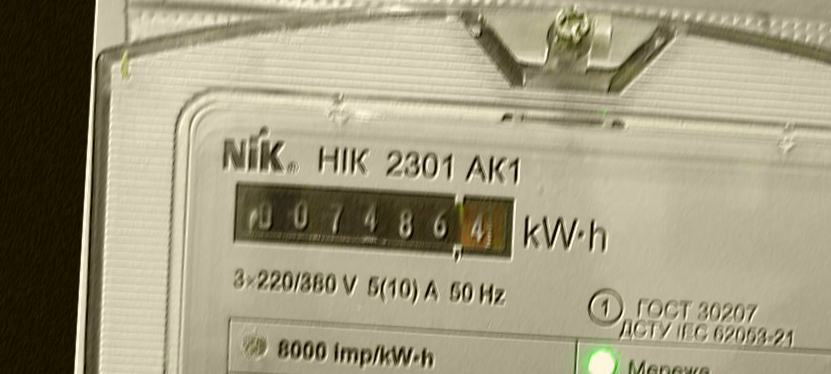0: (252, 196, 274, 231), (289, 196, 309, 230)
4: (358, 197, 378, 233), (466, 209, 485, 244)
6: (429, 206, 450, 240)
7: (321, 199, 346, 234)
8: (395, 206, 414, 241)
screen: (221, 170, 523, 271)
